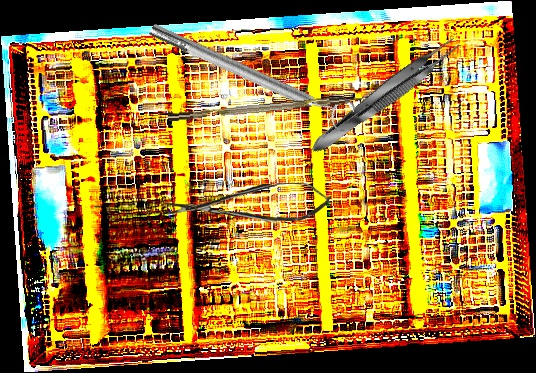Chopper: (167, 85, 373, 122)
Fixation Ring: (144, 11, 358, 136)
Micro Scissor: (165, 182, 332, 224)
Tissue Forceps: (304, 31, 465, 160)
